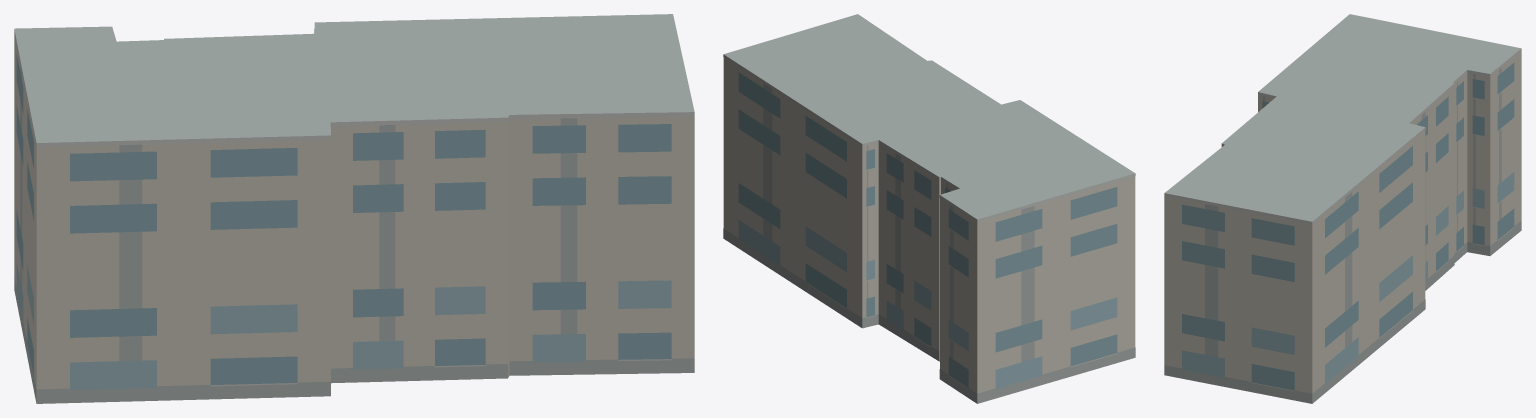
The model's file is survey-upis-32777894.glb.
3 views of the same model, side by side, from view 1: azimuth 30°, elevation 25°; view 2: azimuth 150°, elevation 25°; view 3: azimuth 270°, elevation 25° (orthographic). The views are drawn at different scales.
Visible parts, largest first — view 1: survey-upis-32777894.tmp; view 2: survey-upis-32777894.tmp; view 3: survey-upis-32777894.tmp.
Boxes of the visible parts, bbox=[...] form: survey-upis-32777894.tmp: bbox=[14, 14, 694, 403]; survey-upis-32777894.tmp: bbox=[723, 14, 1135, 403]; survey-upis-32777894.tmp: bbox=[1164, 14, 1521, 403].
Bounding box in the file's own units: 36.21 × 14.8 × 26.31.
